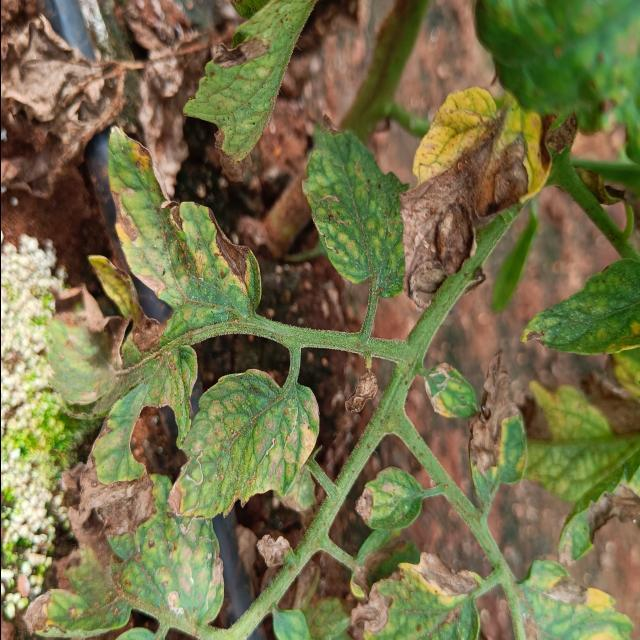Tomato mosaic virus leaf: (400, 81, 554, 319), (100, 120, 262, 318), (466, 342, 528, 504), (352, 465, 428, 537)
